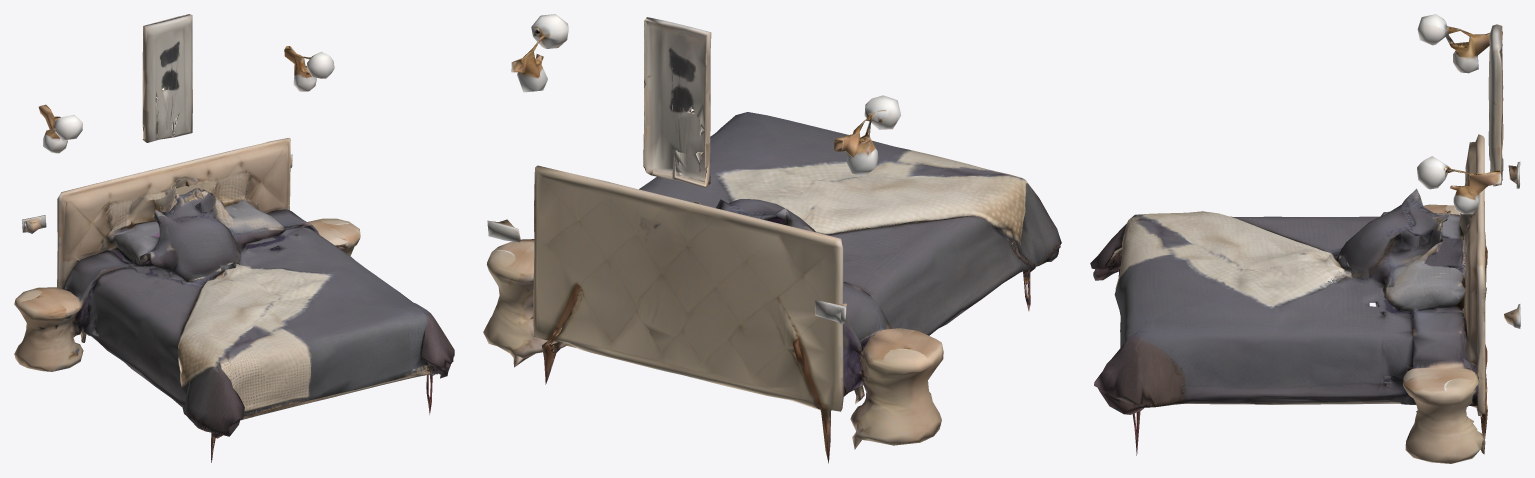
Rendered from bed-1.glb.
The picture shows the model from 3 angles, left to right: view 1: azimuth 30°, elevation 25°; view 2: azimuth 150°, elevation 25°; view 3: azimuth 270°, elevation 25°; orthographic projection. The views are drawn at different scales.
Bounding box in the file's own units: 2 × 1.76 × 1.91.
1 material, 1 textured.
